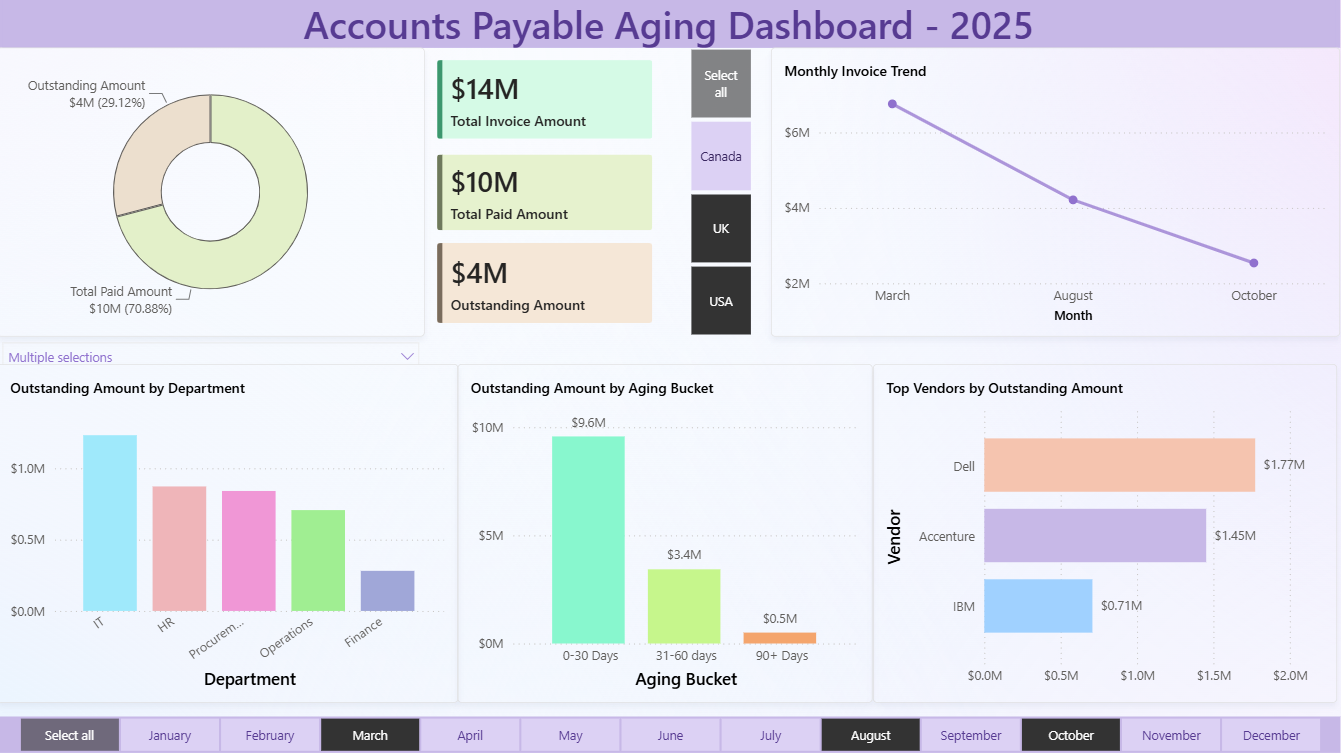

The dashboard page shown, as its layout file describes it:
{"tool":"powerbi","page":{"name":"Page 1","canvas":[1280,720],"ordinal":0},"visuals":[{"type":"cardVisual","fields":{"Data":["AP_Data.Total Invoice Amount"]},"box":[407.3,46.4,229.5,99.5],"z":2},{"type":"textbox","title":"Accounts Payable Aging Dashboard - 2025","box":[0,0,1279.4,47.2],"z":4},{"type":"lineChart","title":"Monthly Invoice Trend","fields":{"Y":["AP_Data.Total Invoice Amount"],"Category":["Calendar.Month Name"]},"box":[737.4,46.9,542.1,275.6],"z":5},{"type":"clusteredBarChart","title":"Top Vendors by Outstanding Amount","fields":{"Category":["AP_Data.Vendor"],"Y":["AP_Data.Outstanding Amount"]},"box":[834.3,348.3,442.1,322.5],"z":6},{"type":"clusteredColumnChart","title":"Outstanding Amount by Aging Bucket","fields":{"Category":["AP_Data.Aging Bucket"],"Y":["Sum(AP_Data.Invoice_Amount)"]},"box":[439.1,348.3,395.2,322.5],"z":7},{"type":"slicer","fields":{"Values":["AP_Data.Country"]},"box":[640.5,46.9,96.9,275.6],"z":8},{"type":"slicer","fields":{"Values":["Calendar.Month Name"]},"box":[1.5,684.4,1278,34.8],"z":9},{"type":"slicer","fields":{"Values":["AP_Data.Vendor"]},"box":[0,322.5,407.3,25.7],"z":10},{"type":"donutChart","fields":{"Y":["AP_Data.Total Paid Amount","AP_Data.Outstanding Amount"]},"box":[0,46.9,407.3,275.6],"z":12},{"type":"clusteredColumnChart","fields":{"Category":["AP_Data.Department"],"Y":["AP_Data.Outstanding Amount"]},"box":[0,348.3,439.1,322.5],"z":13},{"type":"cardVisual","fields":{"Data":["AP_Data.Outstanding Amount"]},"box":[407.3,221.6,229.5,100.8],"z":14},{"type":"cardVisual","fields":{"Data":["AP_Data.Total Paid Amount"]},"box":[407.3,136.7,229.5,96.9],"z":15}]}

Visuals, with their boxes in screenshot pixels (x1, y1, x2, y2), scaled from the page's 1280x720 canvas onto the 1341x753 screenshot:
cardVisual - AP_Data.Total Invoice Amount: [left=427, top=49, right=667, bottom=153]
"Accounts Payable Aging Dashboard - 2025" textbox: [left=0, top=0, right=1340, bottom=49]
"Monthly Invoice Trend" lineChart: [left=773, top=49, right=1340, bottom=337]
"Top Vendors by Outstanding Amount" clusteredBarChart: [left=874, top=364, right=1337, bottom=702]
"Outstanding Amount by Aging Bucket" clusteredColumnChart: [left=460, top=364, right=874, bottom=702]
slicer - AP_Data.Country: [left=671, top=49, right=773, bottom=337]
slicer - Calendar.Month Name: [left=2, top=716, right=1340, bottom=752]
slicer - AP_Data.Vendor: [left=0, top=337, right=427, bottom=364]
donutChart - AP_Data.Total Paid Amount x AP_Data.Outstanding Amount: [left=0, top=49, right=427, bottom=337]
clusteredColumnChart - AP_Data.Department x AP_Data.Outstanding Amount: [left=0, top=364, right=460, bottom=702]
cardVisual - AP_Data.Outstanding Amount: [left=427, top=232, right=667, bottom=337]
cardVisual - AP_Data.Total Paid Amount: [left=427, top=143, right=667, bottom=244]
